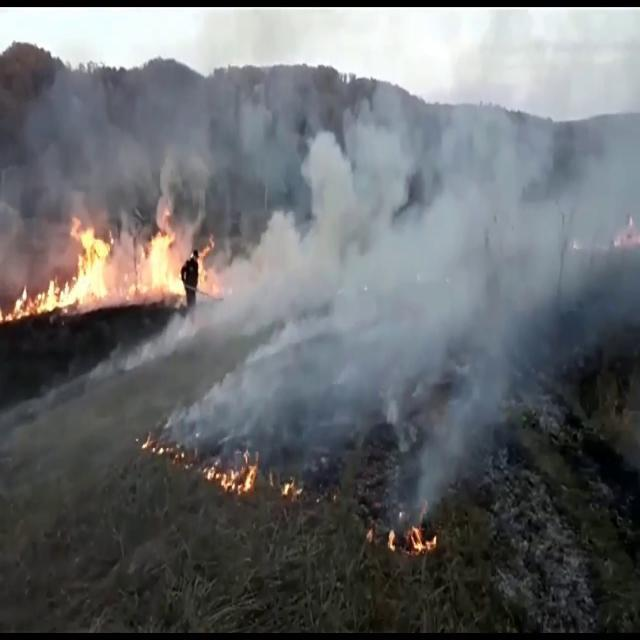Fire: (2, 211, 220, 319), (202, 446, 262, 500)
Smoke: (181, 18, 639, 504), (0, 36, 165, 250)
